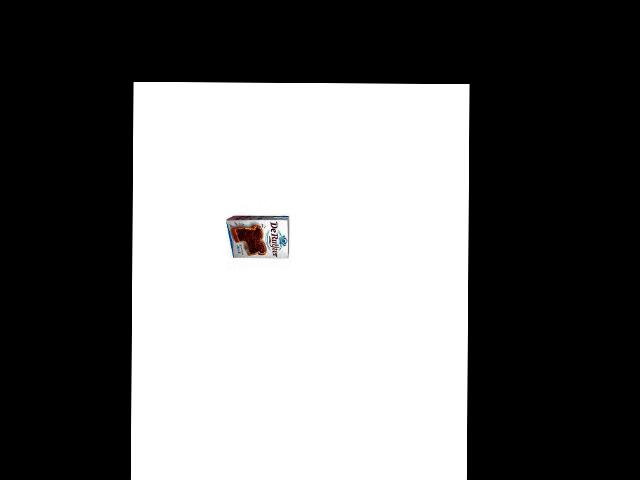chocolate: (227, 209, 293, 264)
